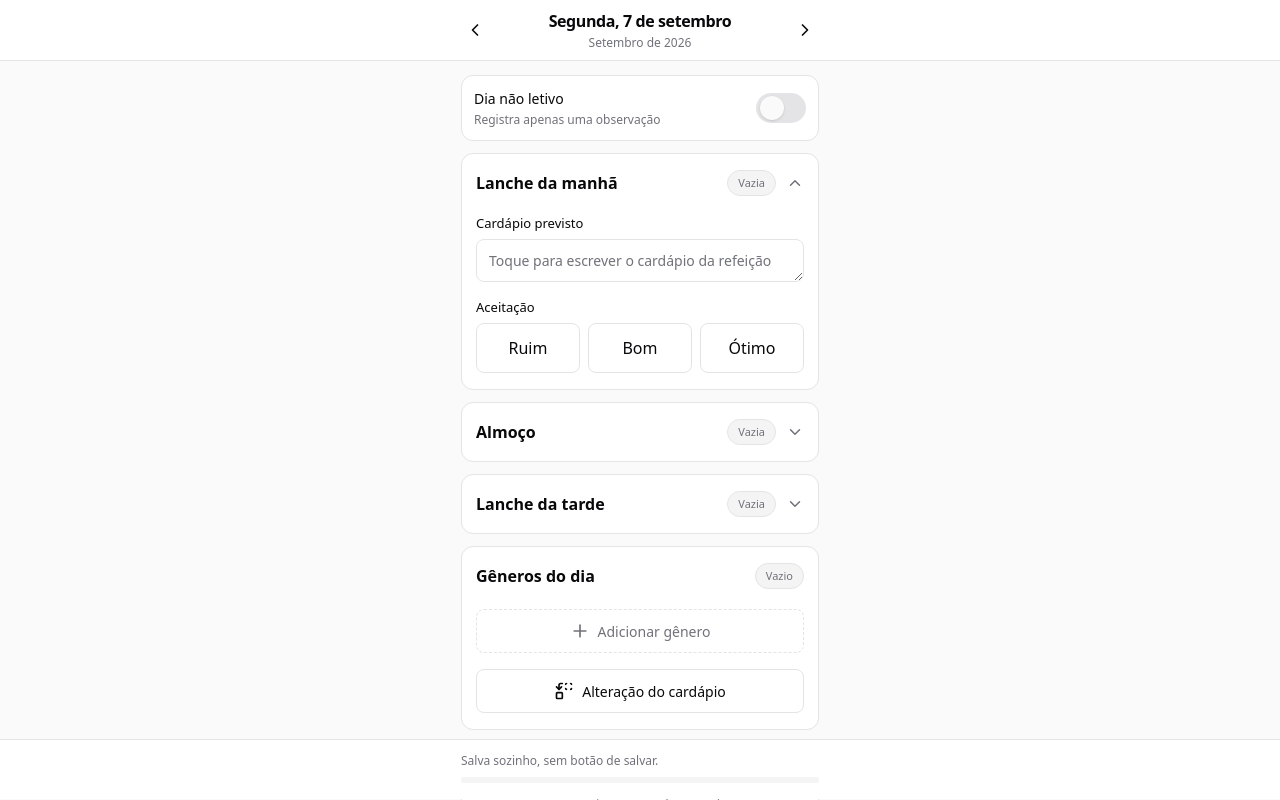
Test: os gêneros utilizados › deixam cadastrar mesmo quando o catálogo não veio
The image size is (1280, 800).
Click the button "Almoço Vazia".
click(506, 432)  # box [462,403,818,461]
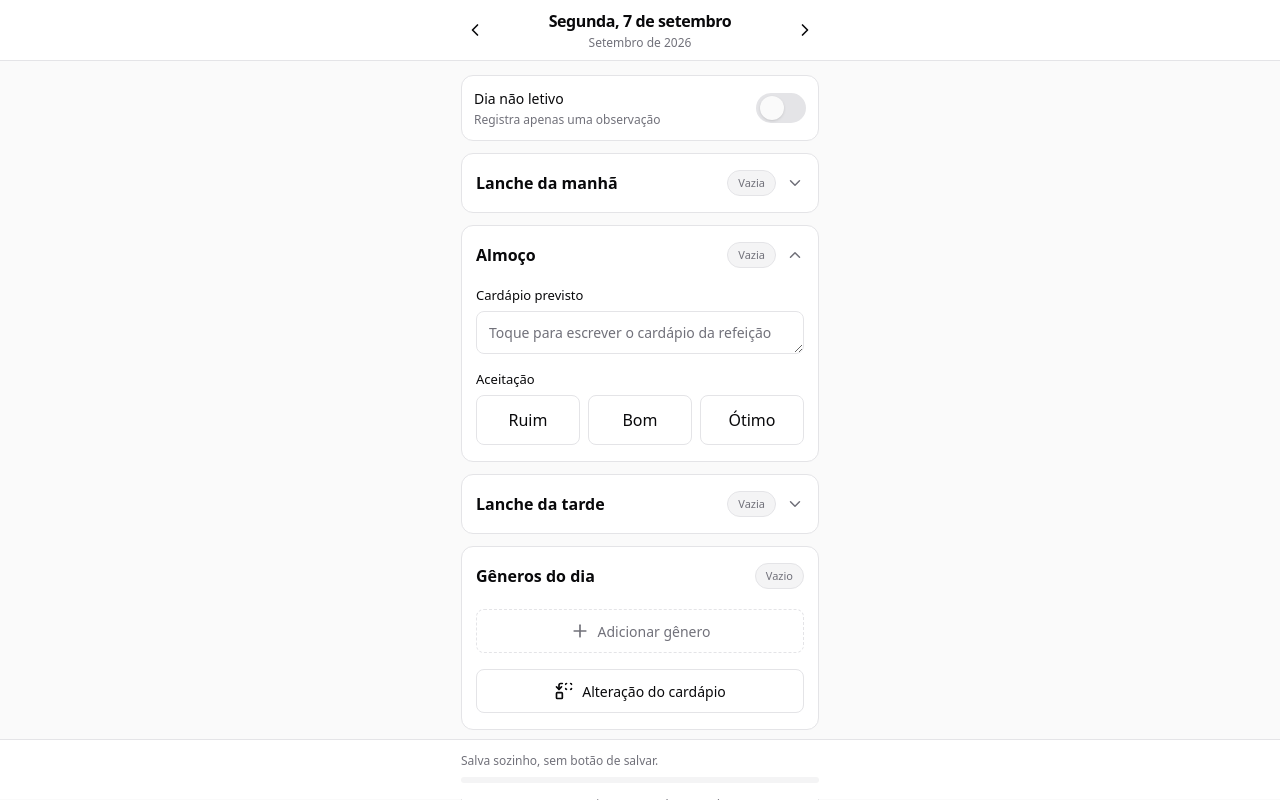
Click the button "Adicionar gênero".
click(640, 631)  # box [476,609,804,653]
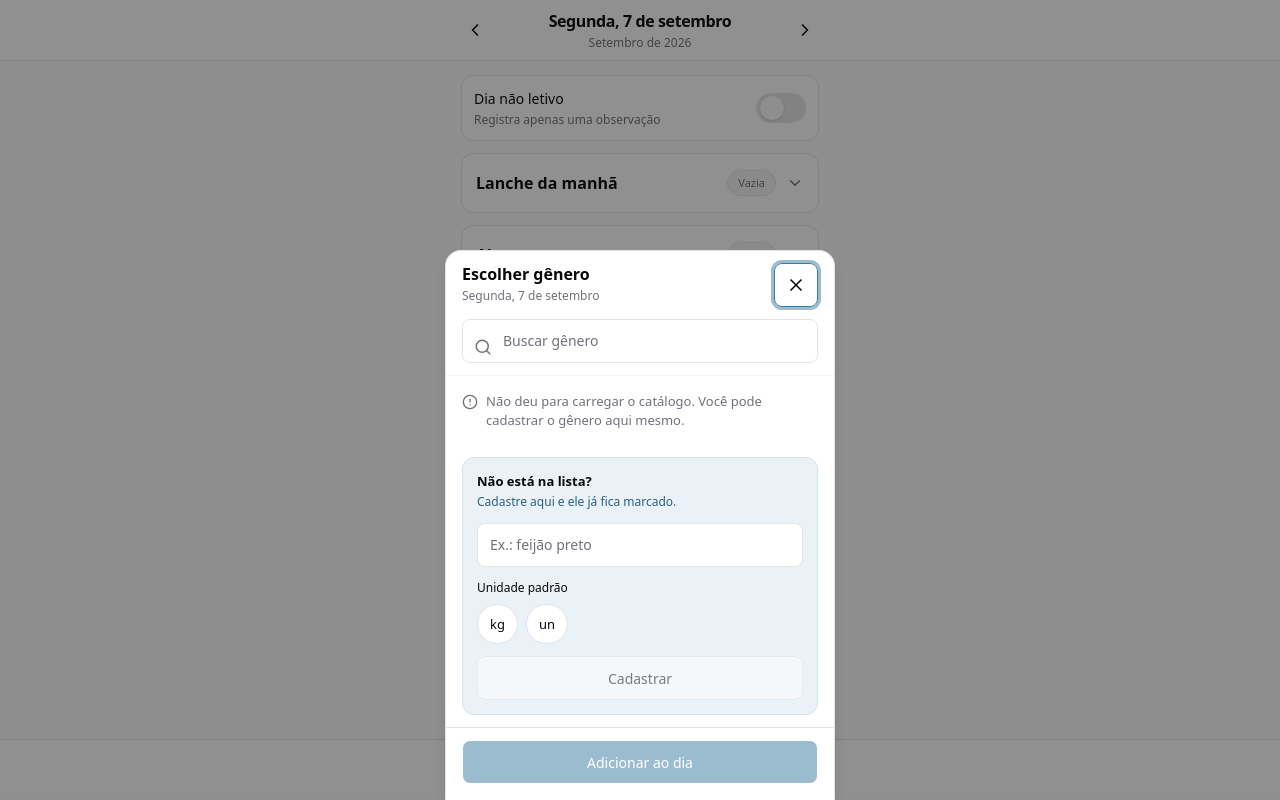
Now the text "Não deu para carregar o catálogo. Você pode cadastrar o gênero aqui mesmo." is shown, box [462,392,762,428]
Now the button "Cadastrar" is shown, box [477,656,803,700]
